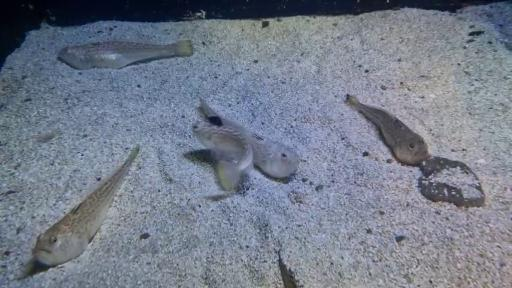Fish: (31, 145, 139, 266), (200, 98, 300, 178), (346, 94, 431, 165), (193, 121, 253, 191), (58, 40, 193, 69), (278, 251, 301, 287), (31, 130, 61, 143)
